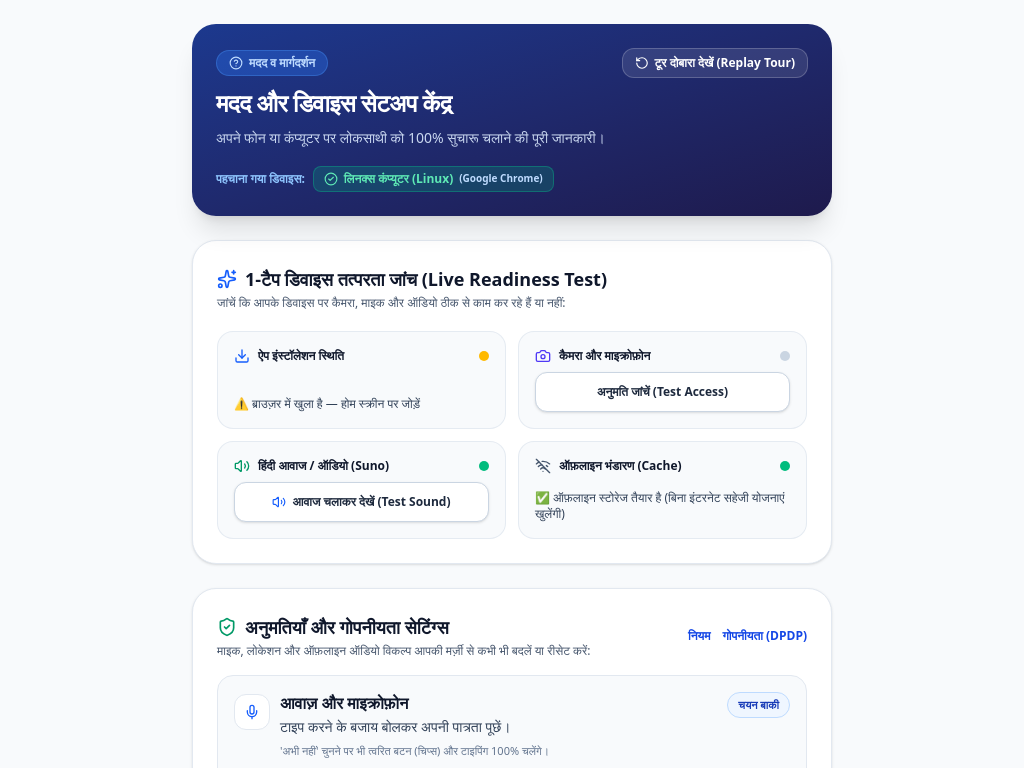
it: Help & Device Diagnostics Page (/help) › opens OnboardingGuide when Replay Tour button is clicked
Click the button "टूर दोबारा देखें (Replay Tour)" at (715, 63), box [622,48,808,78]
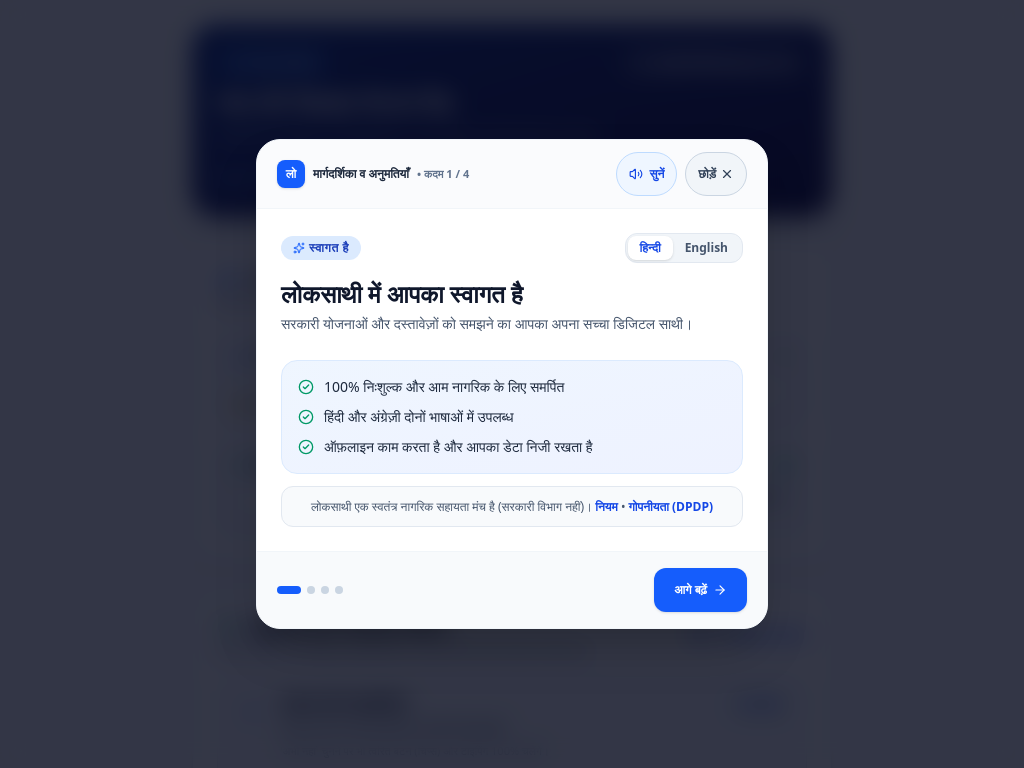
Now the dialog is shown
